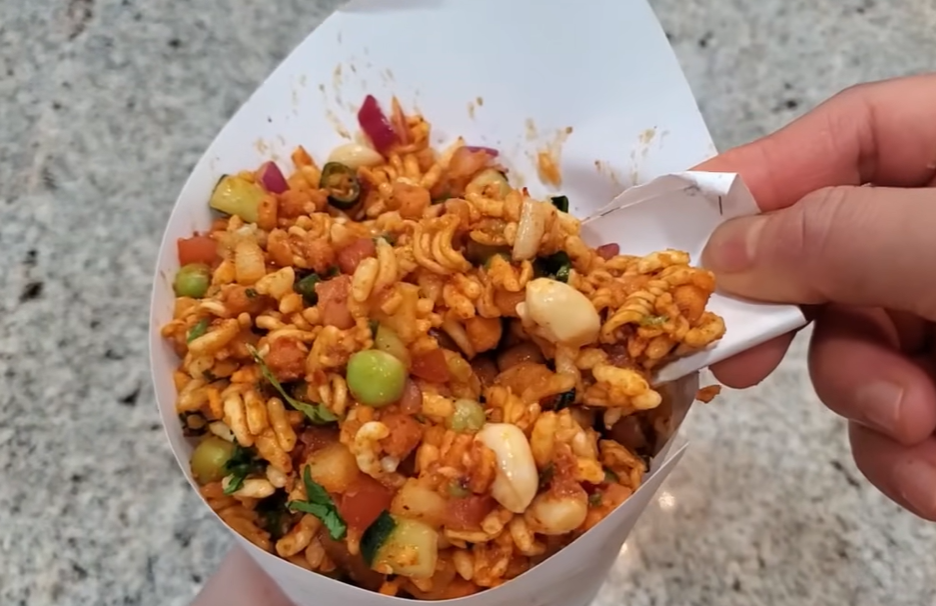chatpate: (213, 169, 659, 506)
